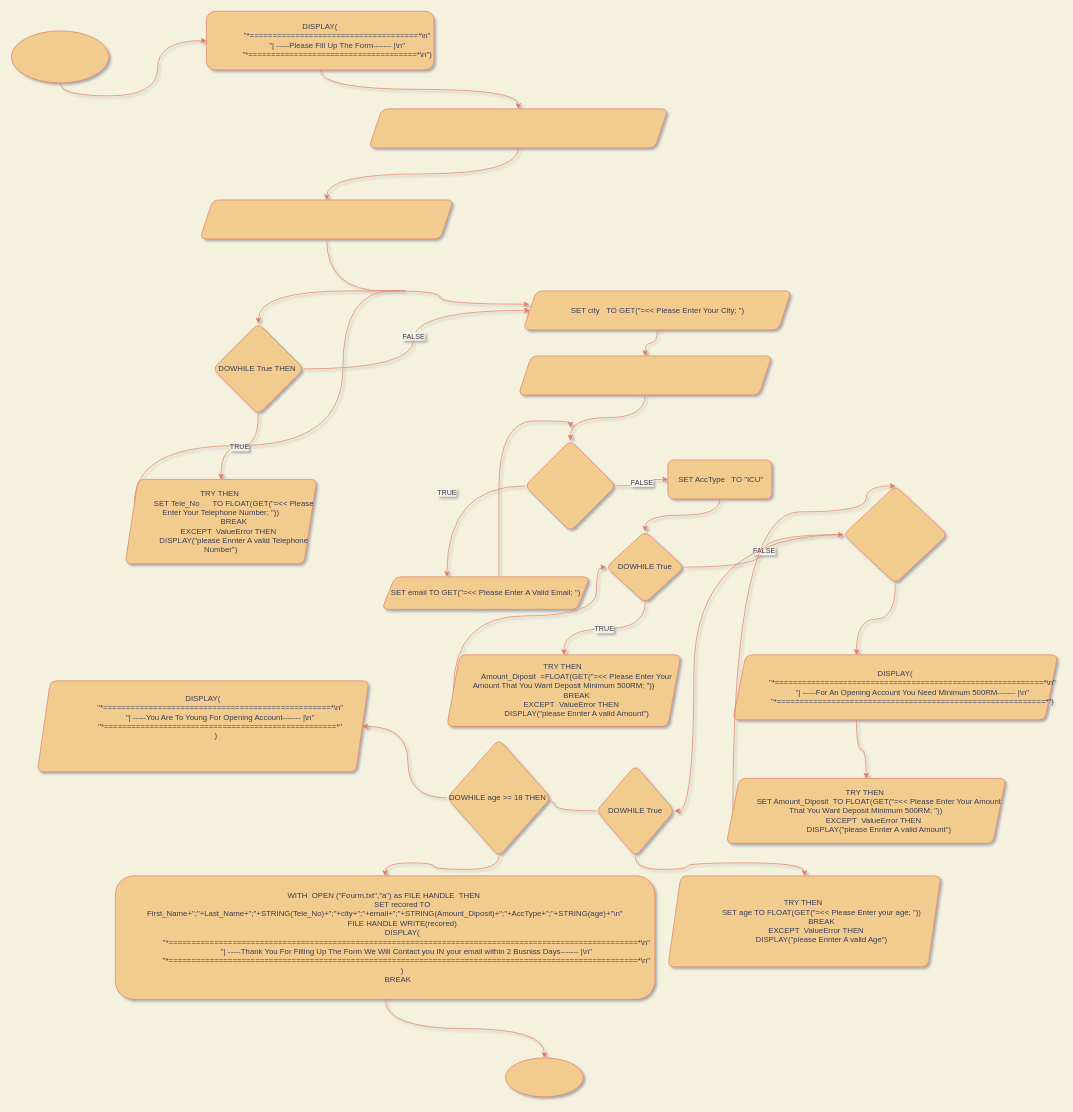
This 1073x1112 diagram has some shape labels left out. Each missing label, with the centre of its shape:
DEFINE IOPenAcc(): (x=60, y=56)
DOWHILE "@" not IN email or ".com" not IN email THEN: (x=570, y=485)
ENDEFINE: (x=544, y=1077)
SET email TO GET("=<< Please Enter Your Emai; "): (x=645, y=375)
SET First_Name TO GET("=<< Please Enter Your First Name; "): (x=518, y=128)
SET Last_Name TO GET("=<< Please Enter Your Last Name; "): (x=326, y=219)
while Amount_Diposit < 500: (x=895, y=534)
